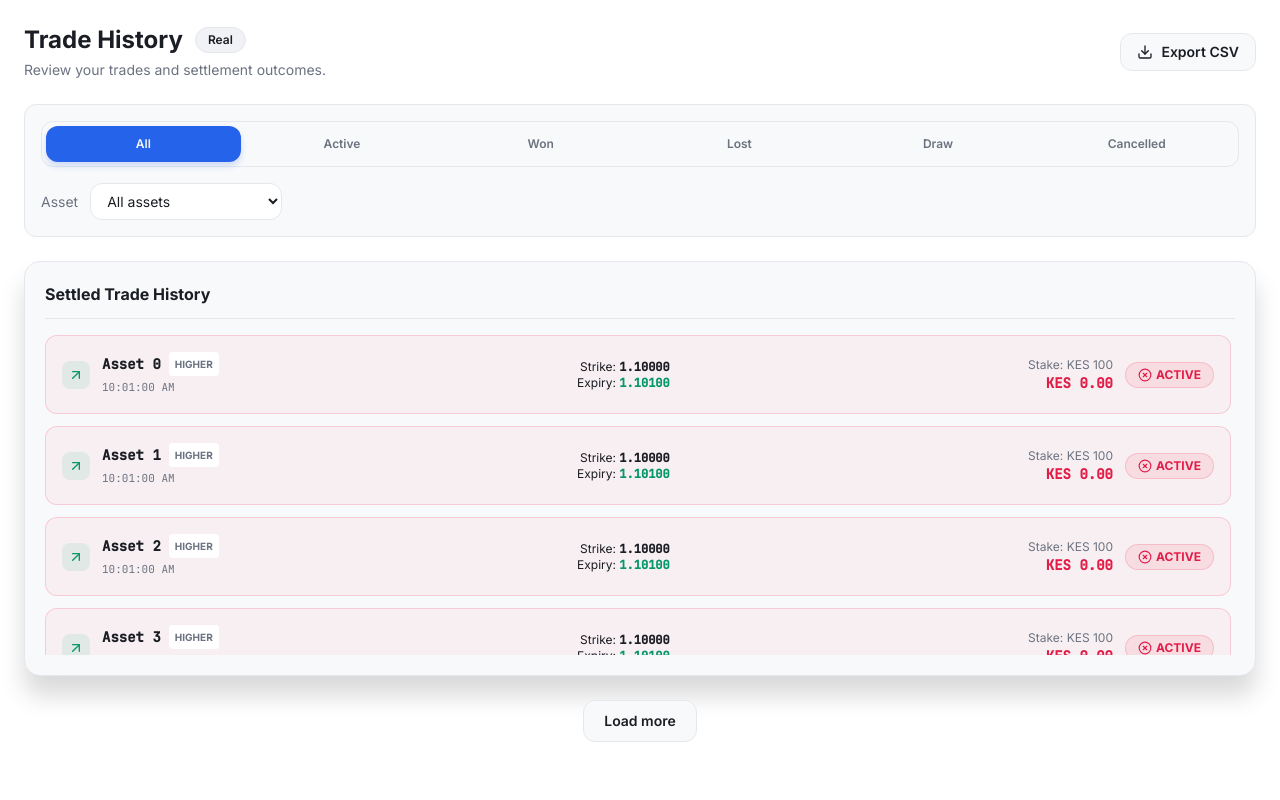
Test: HistoryPage › loads the next page using the last purchase-time cursor
The width and height of the screenshot is (1280, 800).
Click the button "Load more".
click(640, 721)  # box [583,700,697,742]
(page scrolled)
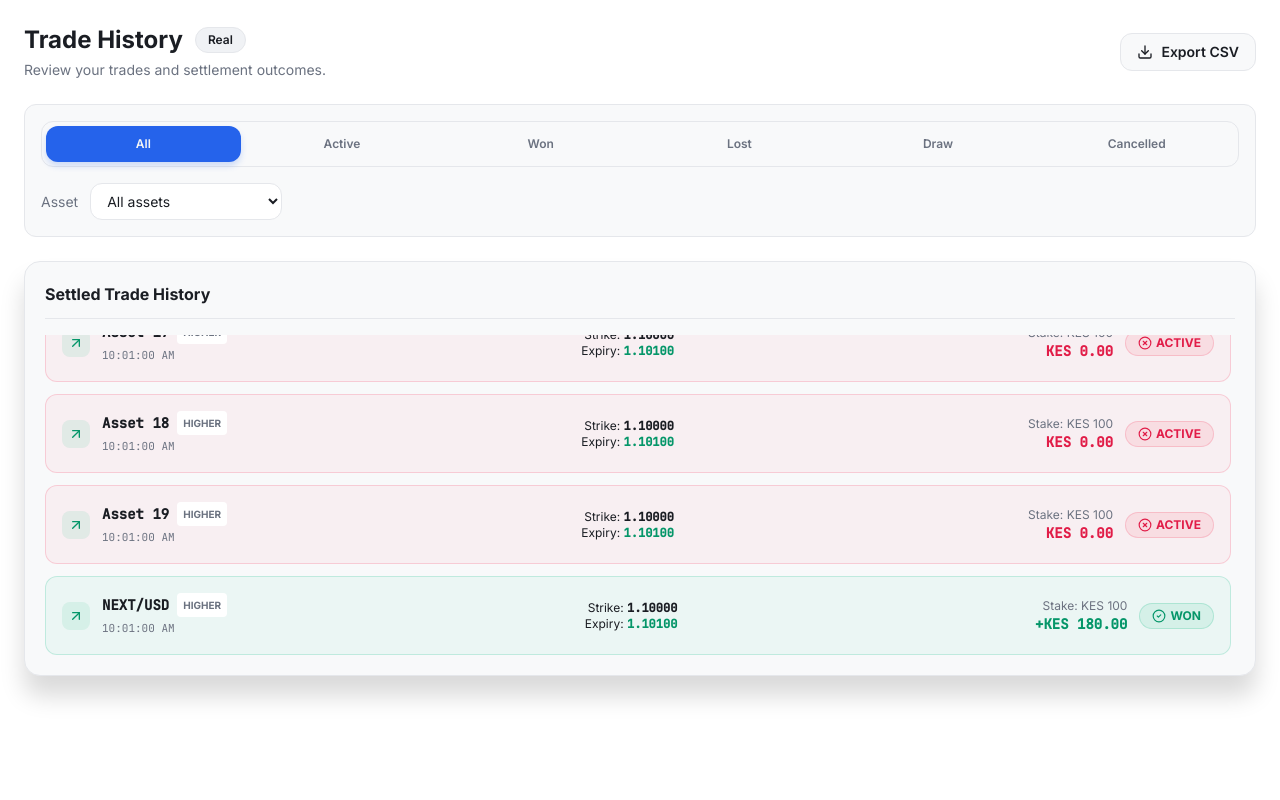
Expected: the text "NEXT/USD" is shown, [102,595,169,615]
